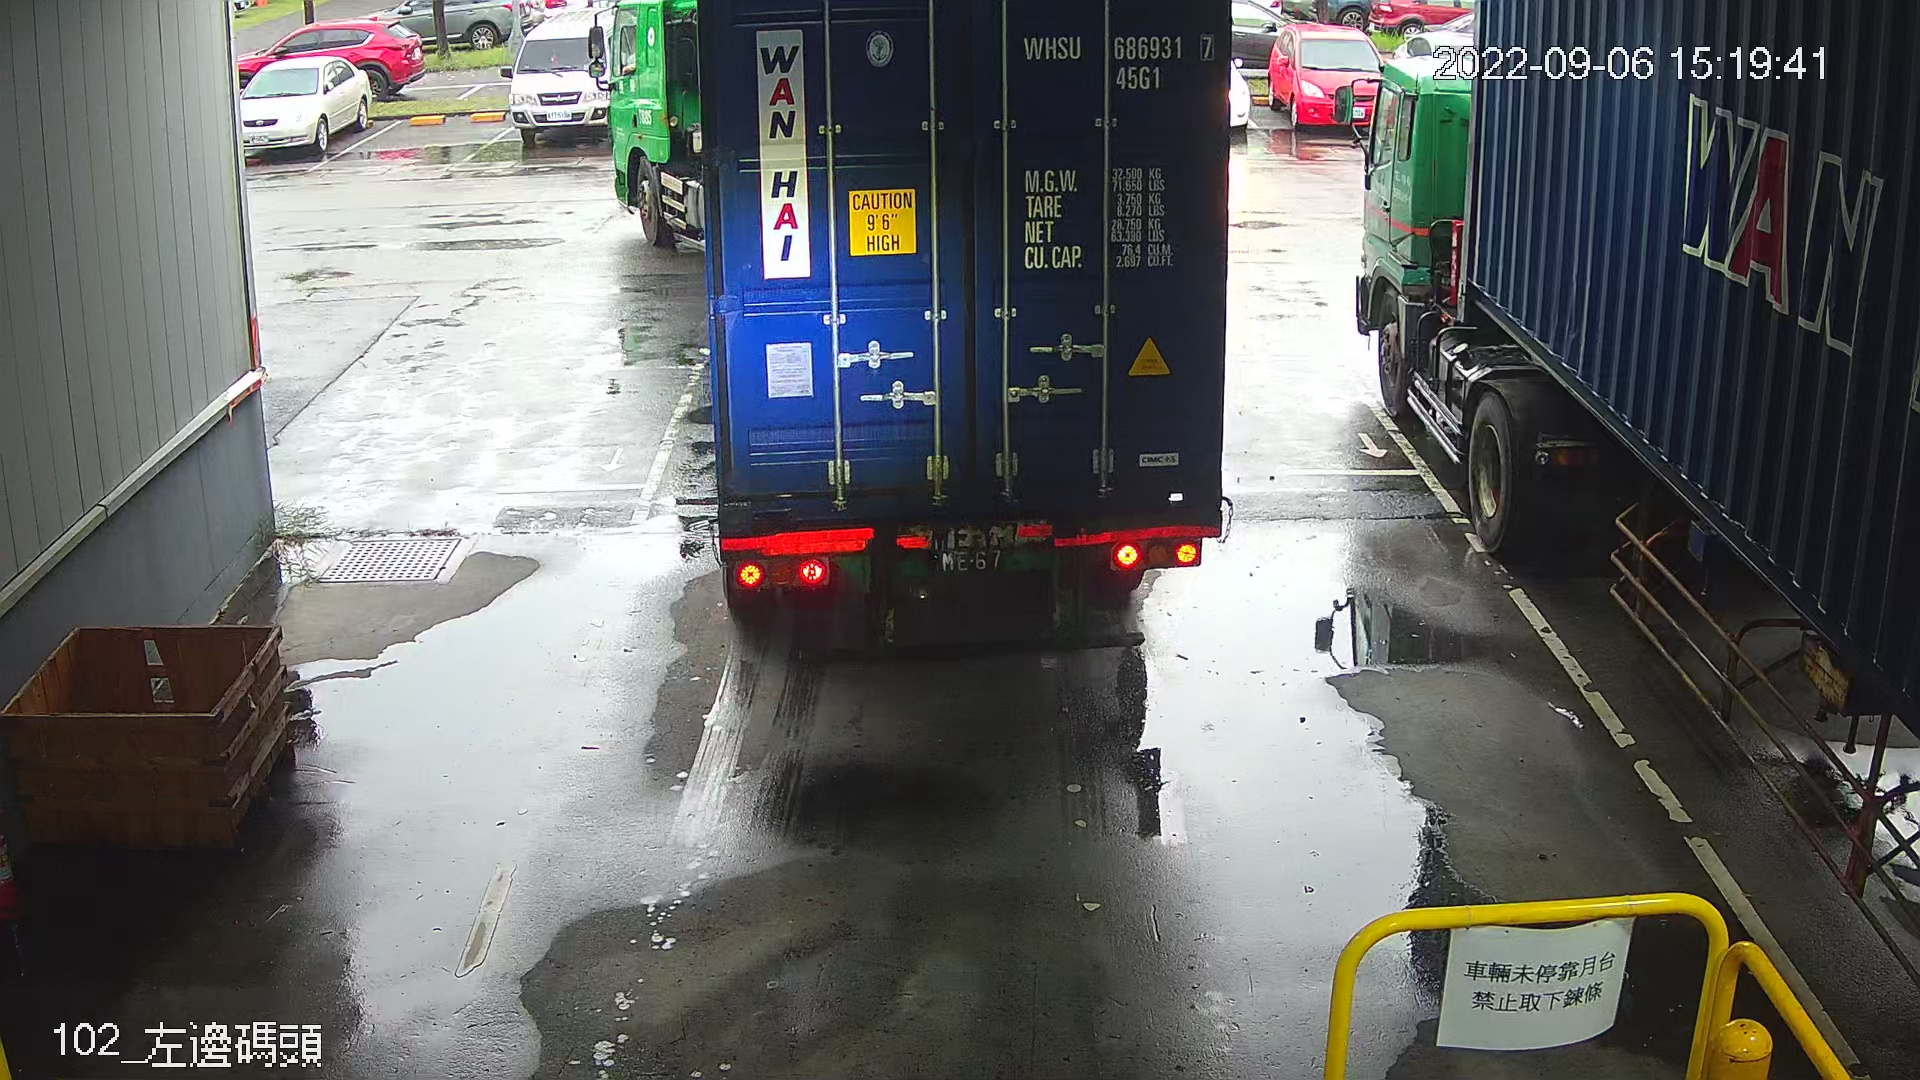container: (1014, 24, 1225, 95)
